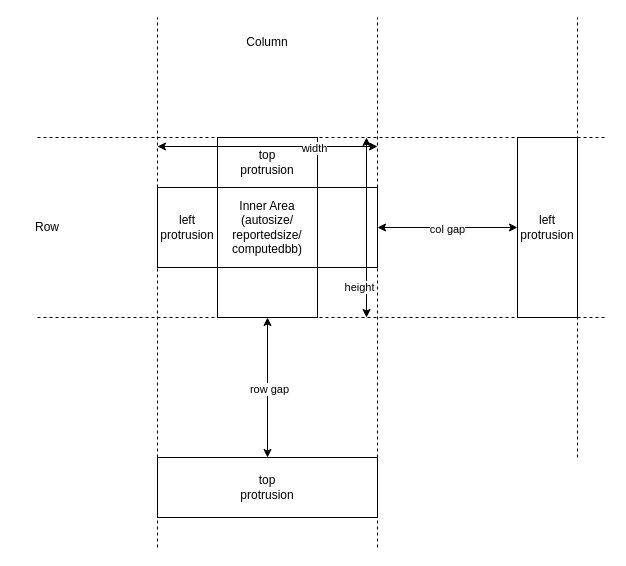
The diagram is 626 pixels wide and 566 high, and some of its shapes have lost their labels. Each missing label, with the box of its shape:
bottom protrusion: (216, 266, 318, 318)
right protrusion: (316, 186, 378, 268)
